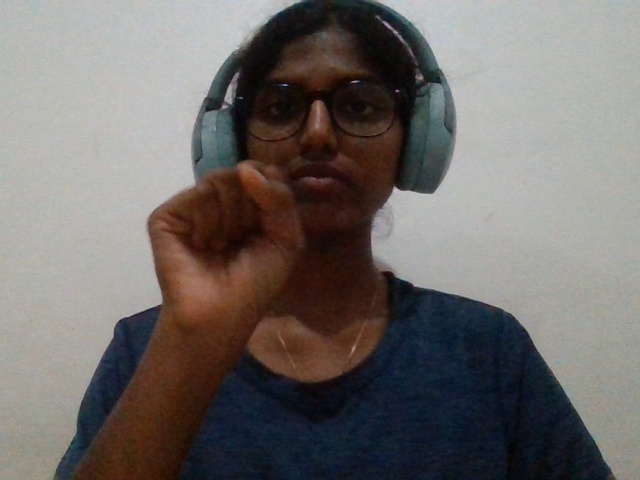Yes: (127, 143, 316, 390)
